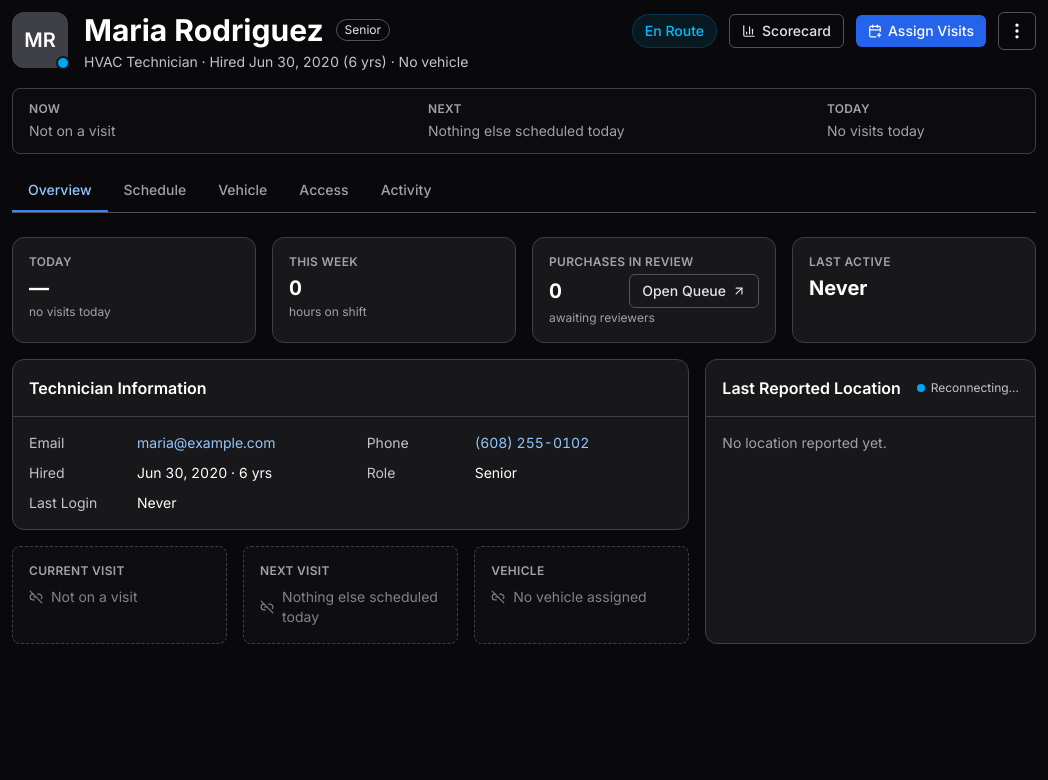
it: TechnicianDetailsPage › announces the armed delete by name
Click the button named "Technician actions". click: (1017, 31)
box: x1=998 y1=12 x2=1036 y2=50
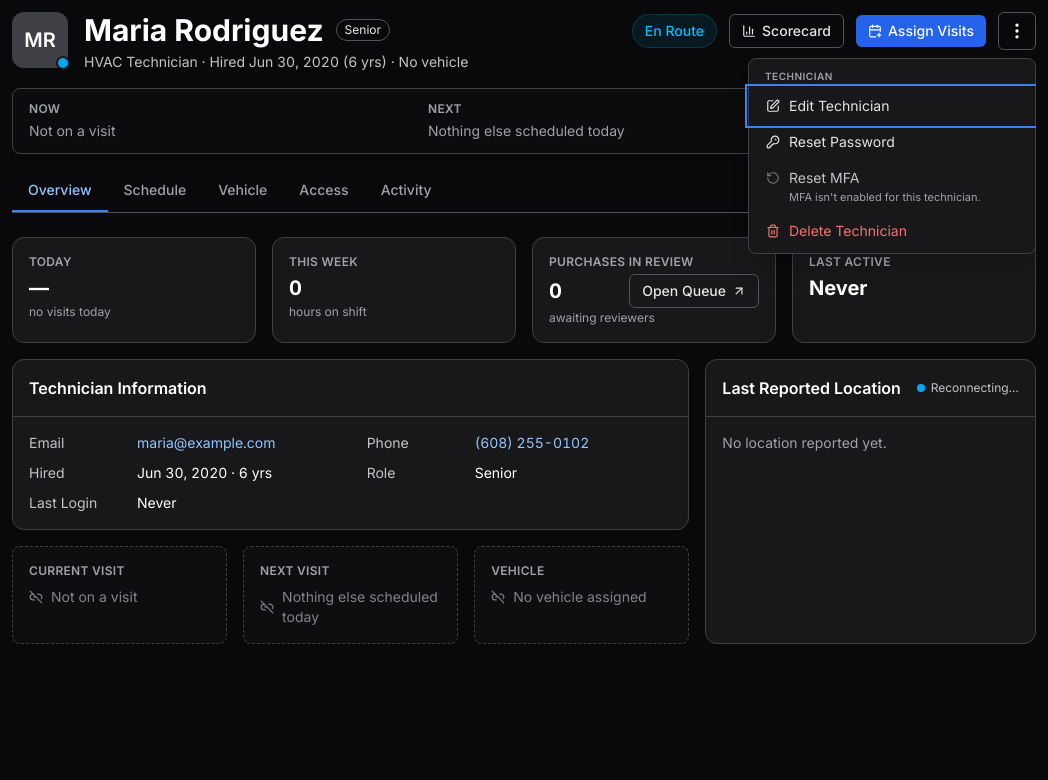
Click the menu item "Delete Technician". click: (892, 231)
box: x1=749 y1=213 x2=1035 y2=249
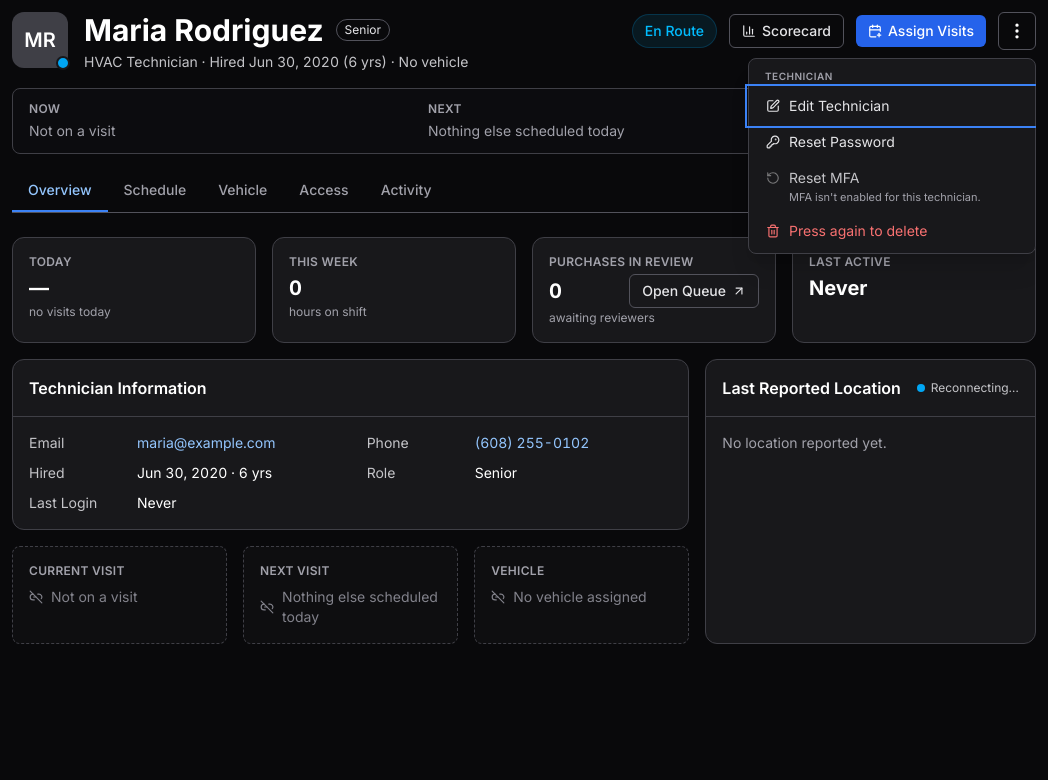
Now the menu item "Press again to delete" is shown, box x1=749 y1=213 x2=1035 y2=249
